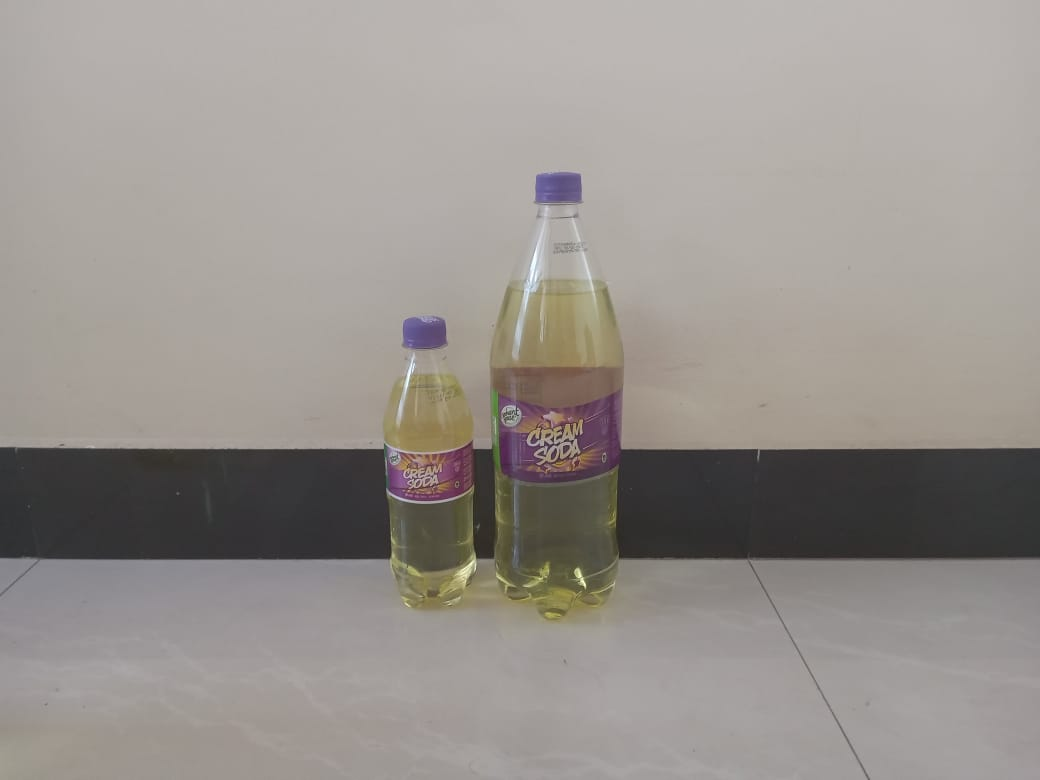L: (490, 171, 622, 625)
S: (385, 313, 477, 614)
